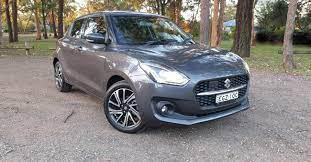Hatchback: (52, 11, 253, 132)
